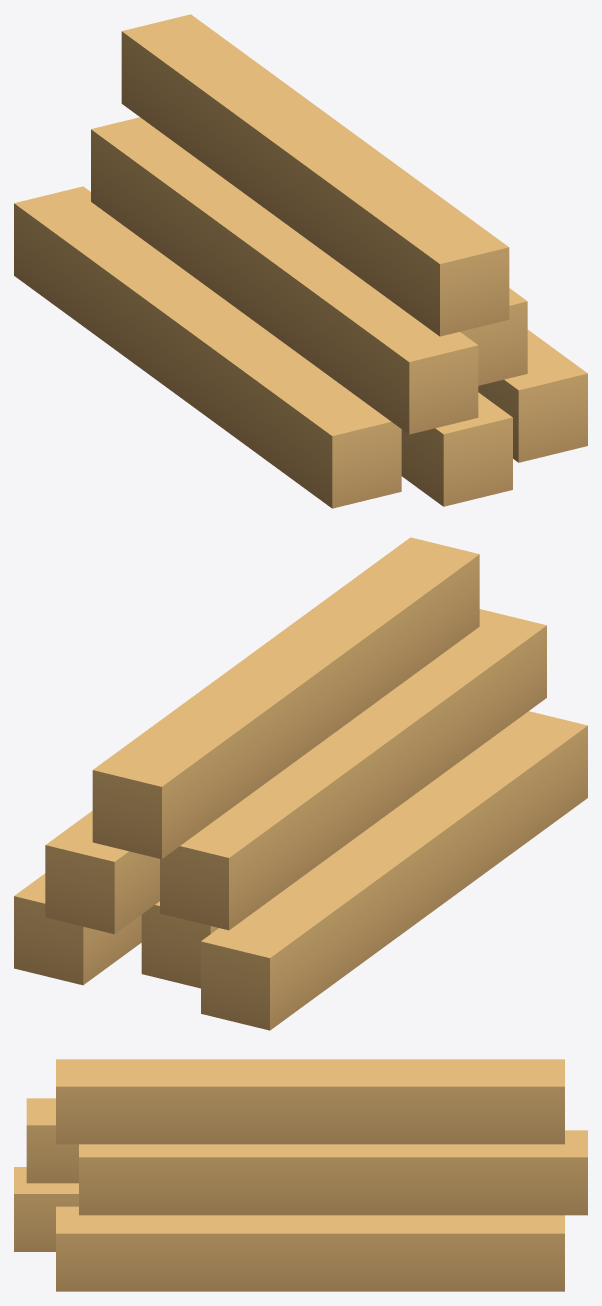
Rendered from wooden blocks.fbx.
3 views of the same model, one above another, from view 1: azimuth 30°, elevation 25°; view 2: azimuth 150°, elevation 25°; view 3: azimuth 270°, elevation 25° (orthographic). The views are drawn at different scales.
Visible parts, largest first — view 1: wooden_blocks; view 2: wooden_blocks; view 3: wooden_blocks.
Part boxes in pixels (x1,y1,x2,y2): wooden_blocks: [14, 14, 587, 508]; wooden_blocks: [14, 537, 587, 1030]; wooden_blocks: [14, 1059, 587, 1291].
Size of the model in its own units: 122 by 99.04 by 296.
Materials: 1 (1 with a texture image).
